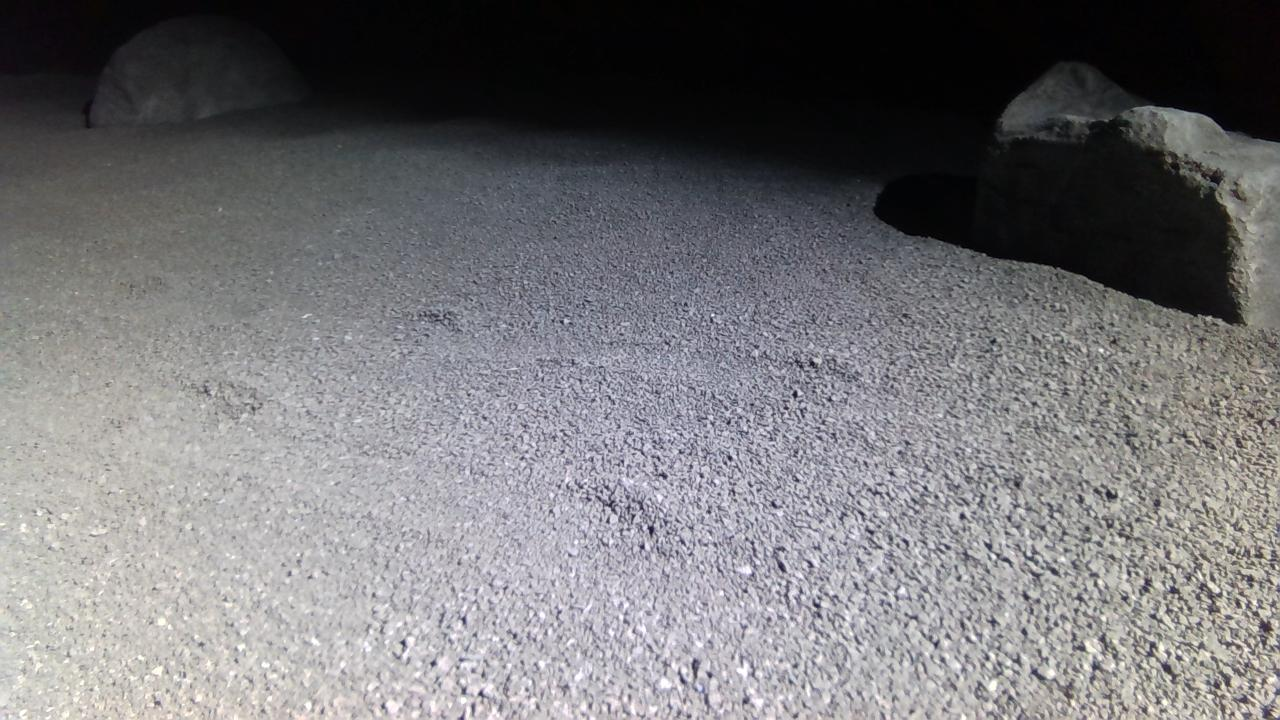rock: (978, 60, 1280, 326), (88, 14, 309, 125)
